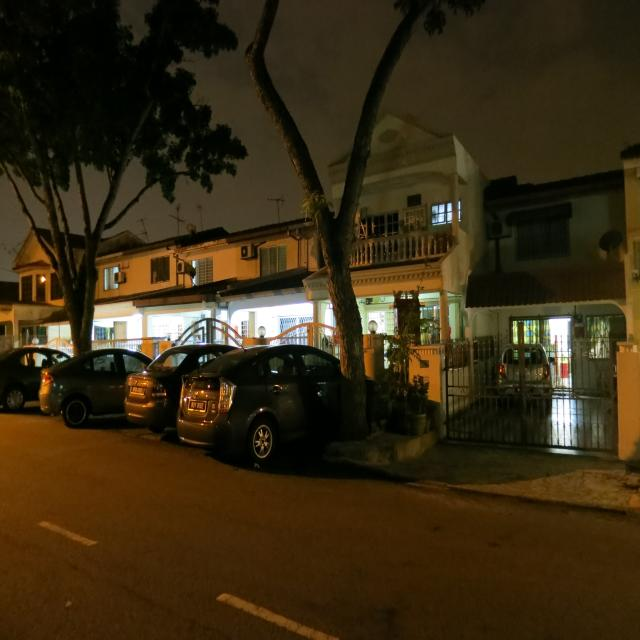Car: (20, 339, 337, 502), (496, 320, 546, 406)
